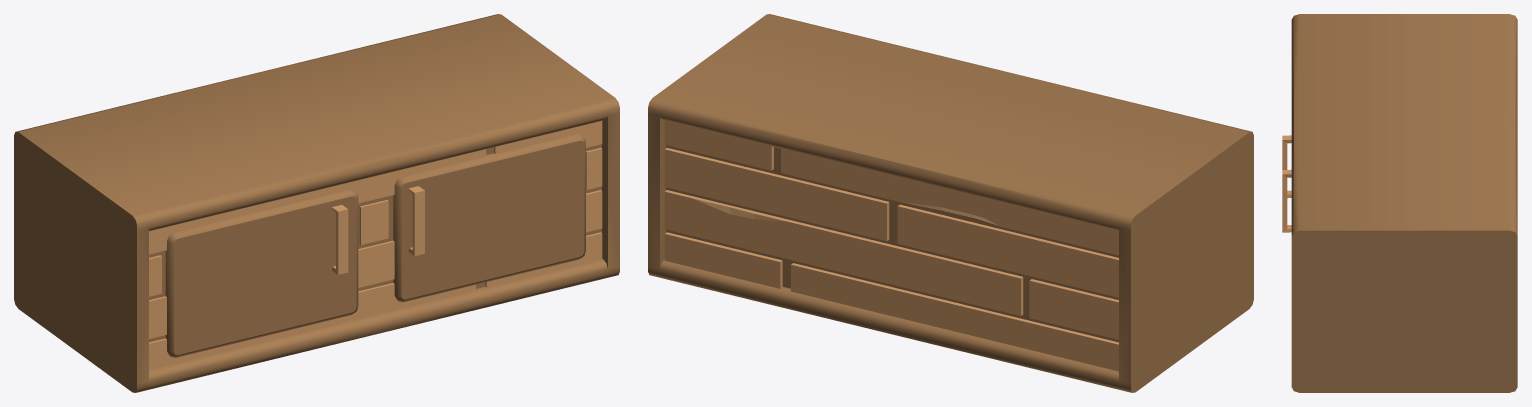
The model's file is Cabinet Doors.glb.
3 views of the same model, side by side, from view 1: azimuth 30°, elevation 25°; view 2: azimuth 150°, elevation 25°; view 3: azimuth 270°, elevation 25° (orthographic). The views are drawn at different scales.
Visible parts, largest first — view 1: Environment_Cabinet_Doors; view 2: Environment_Cabinet_Doors; view 3: Environment_Cabinet_Doors.
Part boxes in pixels (bbox=[...]): Environment_Cabinet_Doors: bbox=[14, 14, 619, 392]; Environment_Cabinet_Doors: bbox=[648, 14, 1253, 392]; Environment_Cabinet_Doors: bbox=[1282, 14, 1517, 392].
Size of the model in its own units: 4 by 1.4 by 1.84.
Materials: 1 (1 with a texture image).
